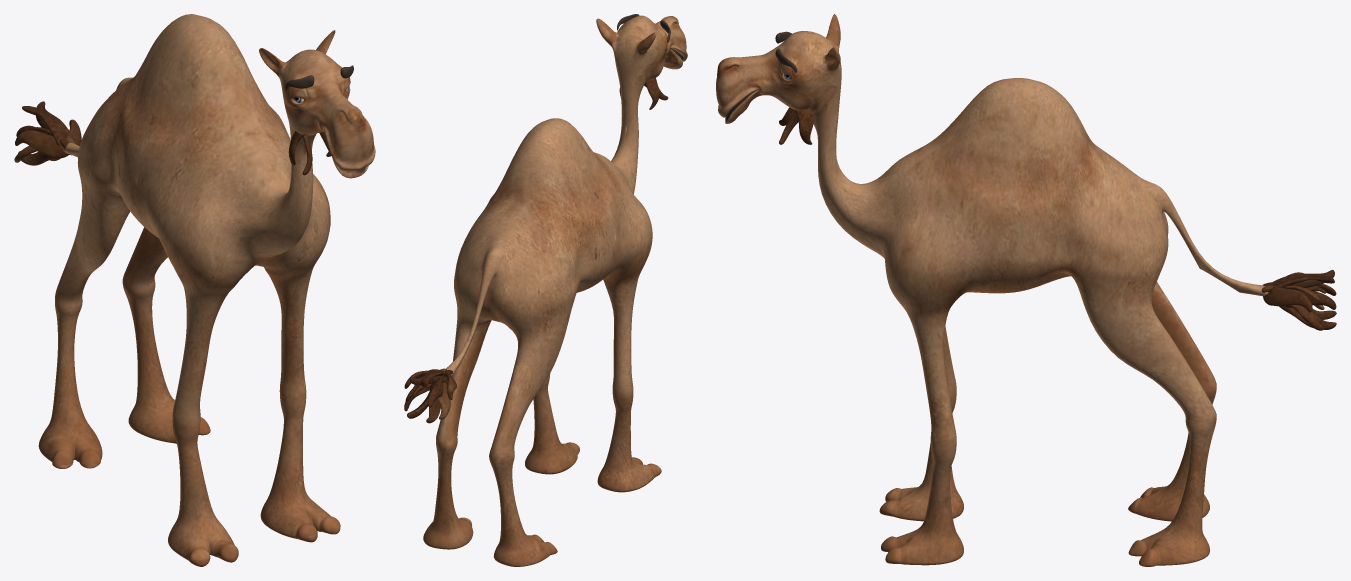
Rendered from camel.fbx.
The picture shows the model from 3 angles, left to right: view 1: azimuth 30°, elevation 25°; view 2: azimuth 150°, elevation 25°; view 3: azimuth 270°, elevation 25°; orthographic projection. The views are drawn at different scales.
Visible parts, largest first — view 1: Camel; view 2: Camel; view 3: Camel.
Part boxes in pixels (left/top/right/bottom): Camel: left=14, top=14, right=375, bottom=566; Camel: left=404, top=14, right=687, bottom=566; Camel: left=716, top=14, right=1336, bottom=566.
Size of the model in its own units: 191 by 624 by 700.
Materials: 1 (1 with a texture image).
